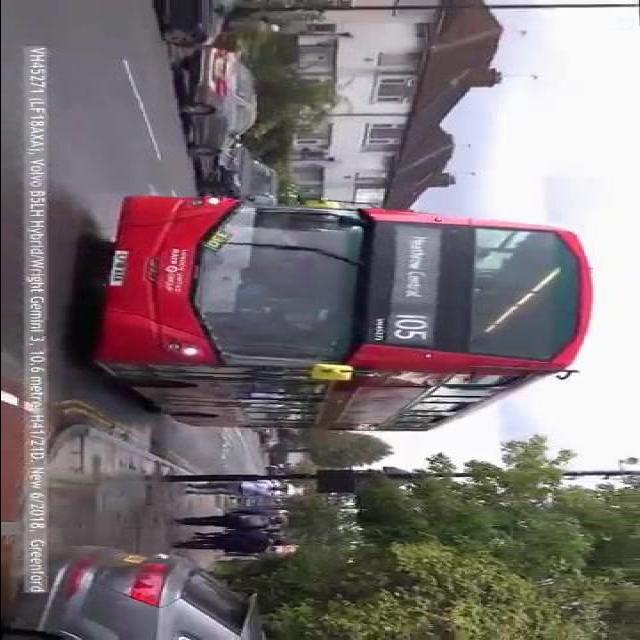bus: (87, 191, 595, 443)
